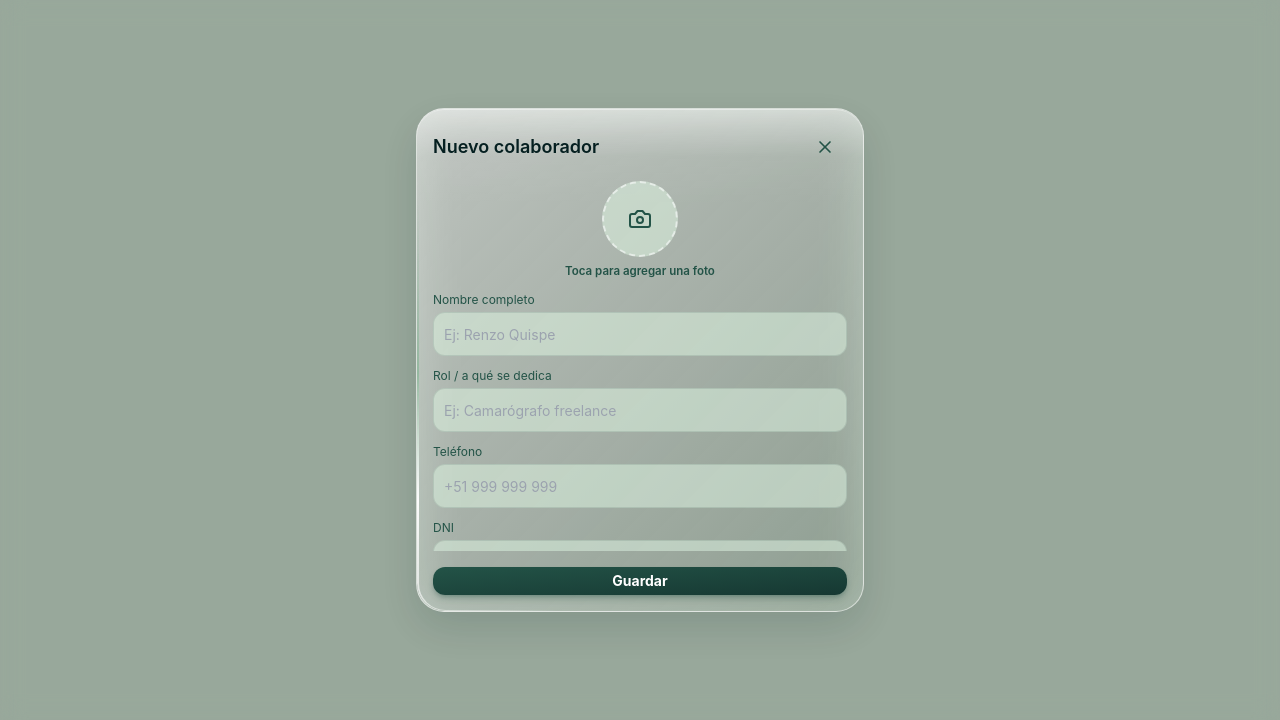
Test: CollaboratorEditor › blocks saving for an invalid phone
The image size is (1280, 720).
Type "Renzo" into the field labelled "Nombre completo" at x=640, y=334, box [433,312,847,356]
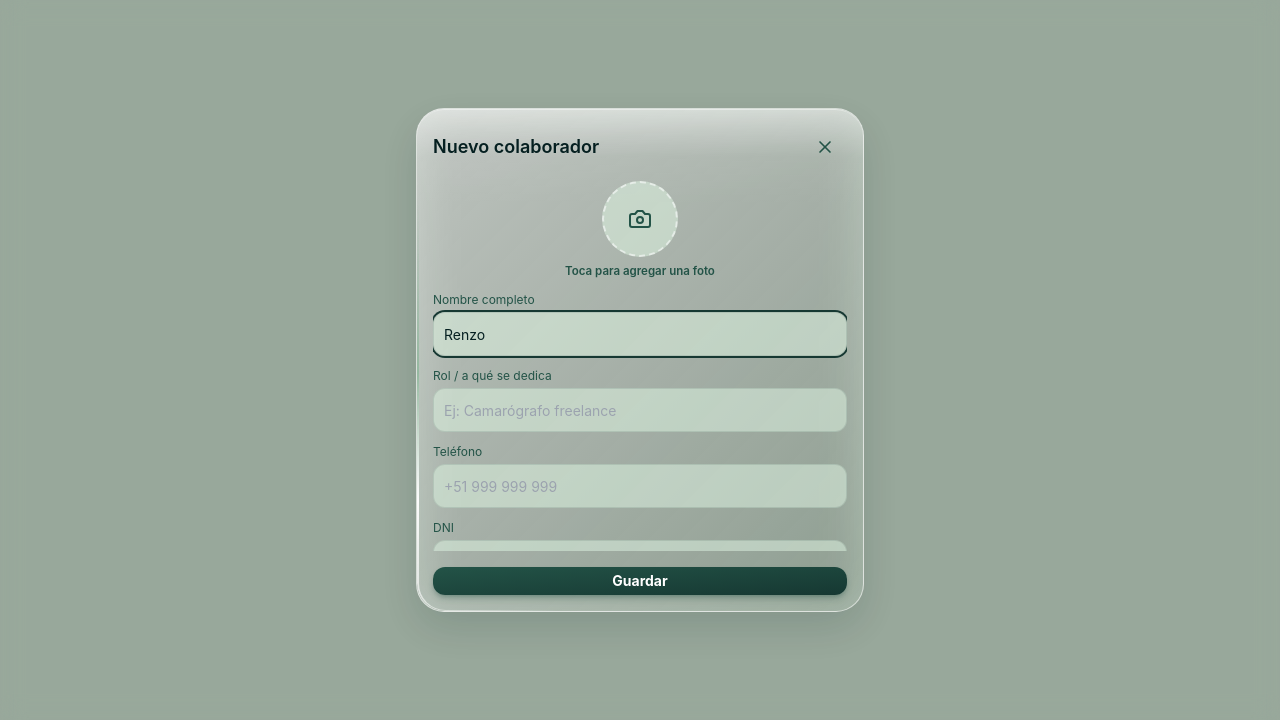
Type "12345" into the field labelled "Teléfono" at x=640, y=486, box [433,464,847,508]
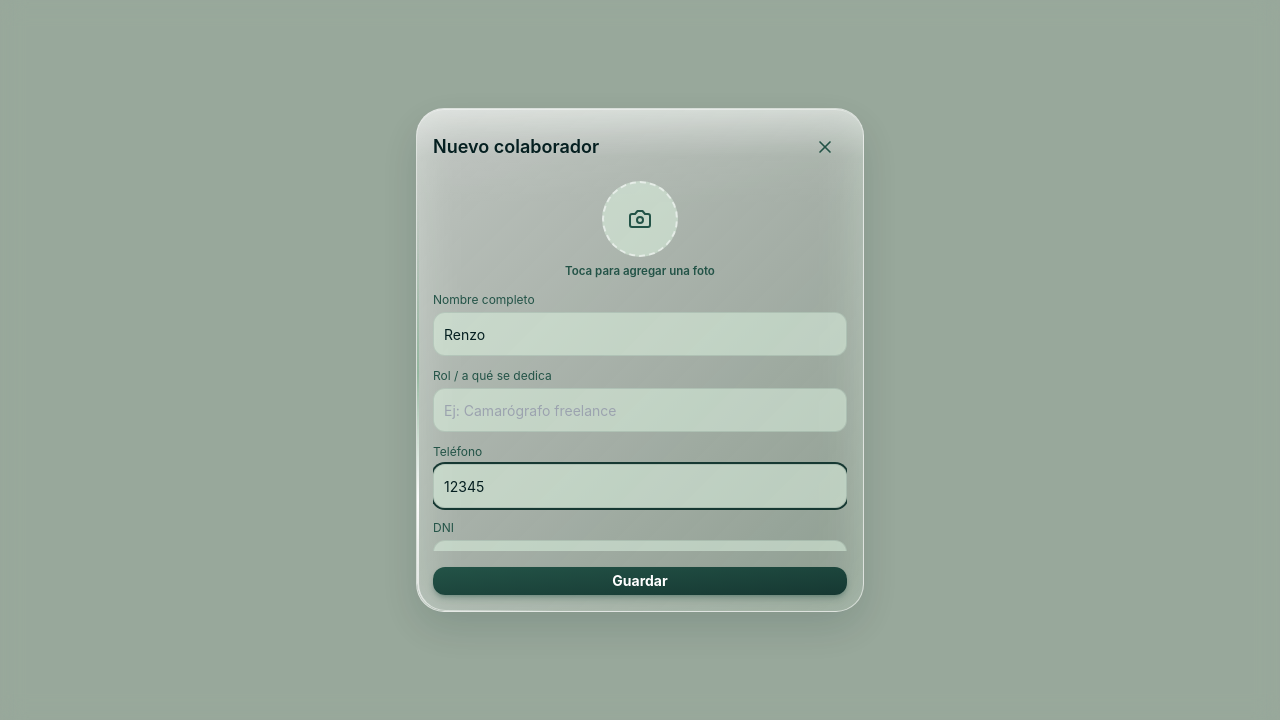
Click the button "Guardar" at x=640, y=581, box [433,567,847,595]
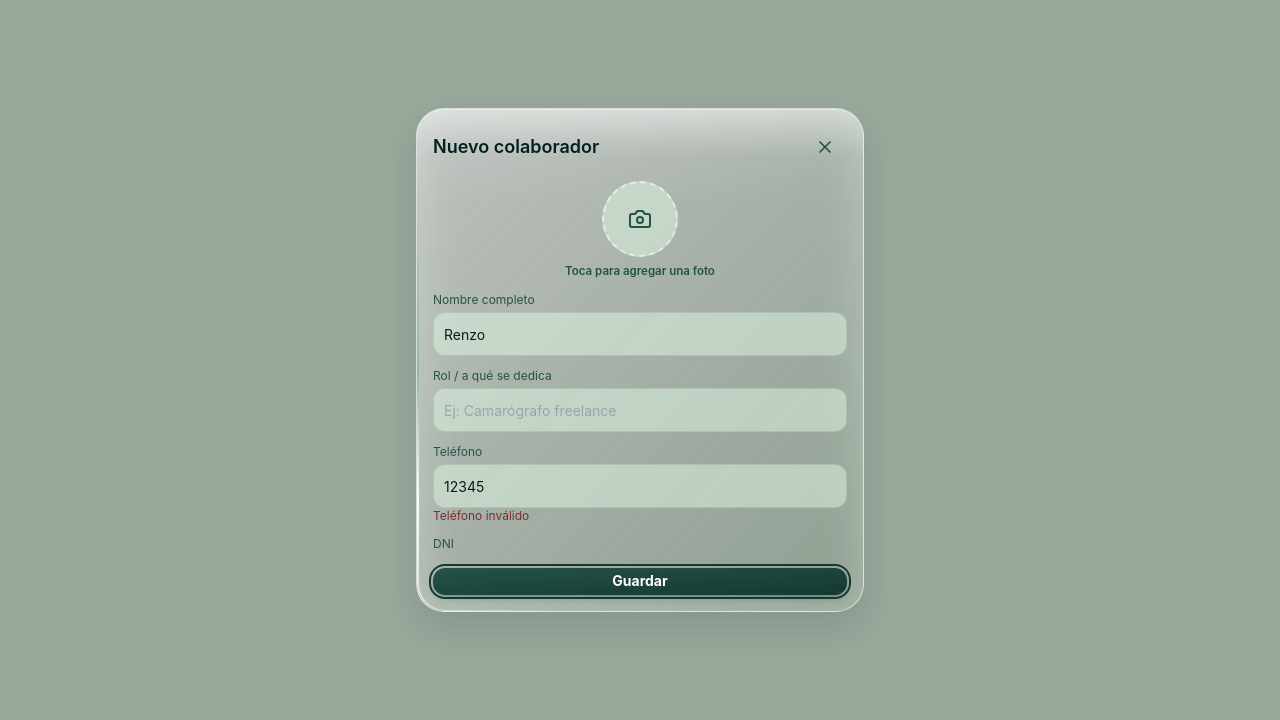
Result: the text "Teléfono inválido" is shown at [433,508,529,523]
